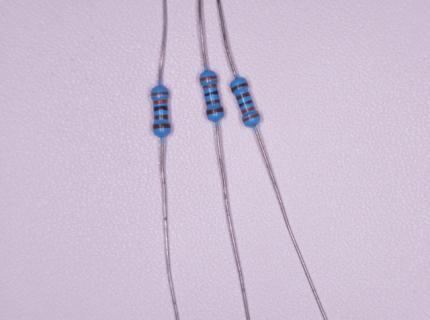Black band: (237, 100, 253, 108), (204, 90, 219, 97), (154, 105, 168, 112)
Brown band: (230, 82, 249, 92), (236, 91, 251, 101), (206, 108, 224, 115), (206, 98, 220, 106), (153, 123, 171, 129), (154, 114, 168, 120)
Orange band: (242, 113, 261, 123), (241, 106, 256, 114), (200, 75, 217, 82), (151, 91, 170, 96), (202, 83, 217, 89), (153, 99, 168, 104)
